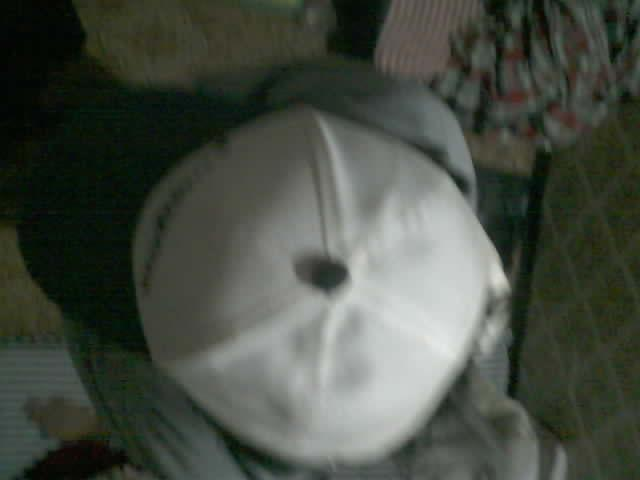cap: (131, 102, 510, 466)
